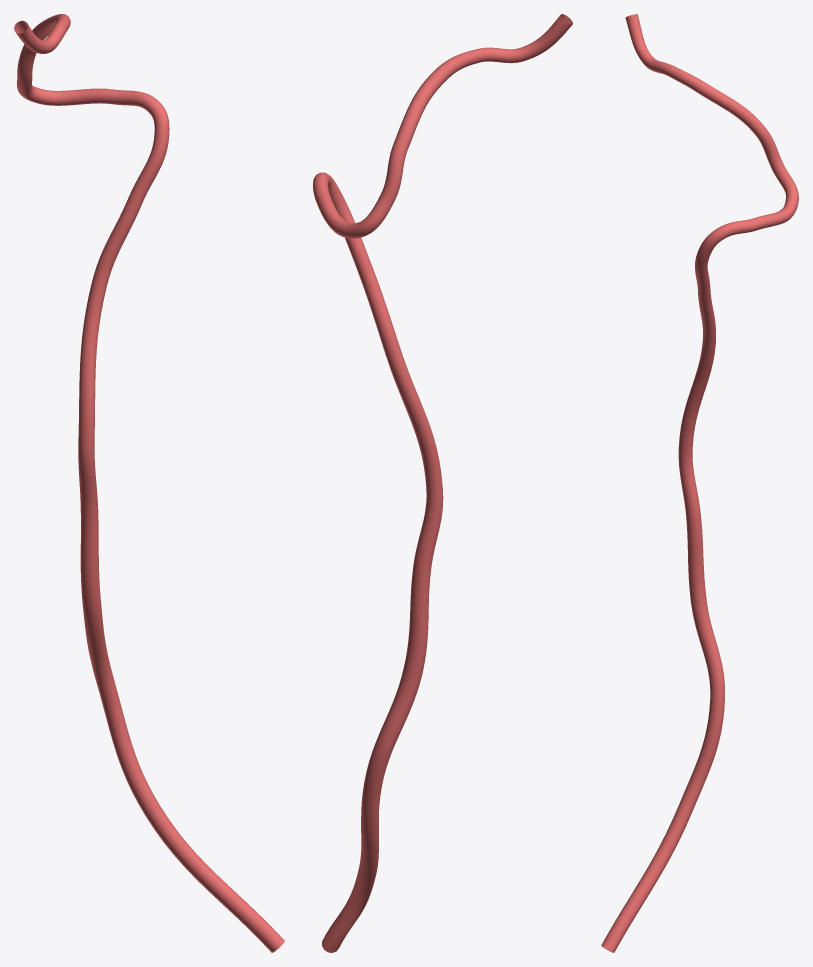
The model's file is Vertebral_artery.l_BezierCurve.176.glb.
The picture shows the model from 3 angles, left to right: view 1: azimuth 30°, elevation 25°; view 2: azimuth 150°, elevation 25°; view 3: azimuth 270°, elevation 25°; orthographic projection. The views are drawn at different scales.
Parts seen in each view (by area): view 1: Vertebral_artery.l_BezierCurve.176; view 2: Vertebral_artery.l_BezierCurve.176; view 3: Vertebral_artery.l_BezierCurve.176.
Boxes of the visible parts, box(x1,y1,x2,y2) form: Vertebral_artery.l_BezierCurve.176: box(14, 14, 284, 952); Vertebral_artery.l_BezierCurve.176: box(313, 14, 572, 952); Vertebral_artery.l_BezierCurve.176: box(601, 14, 798, 952).
Size of the model in its own units: 0.043 by 0.1573 by 0.0336.
